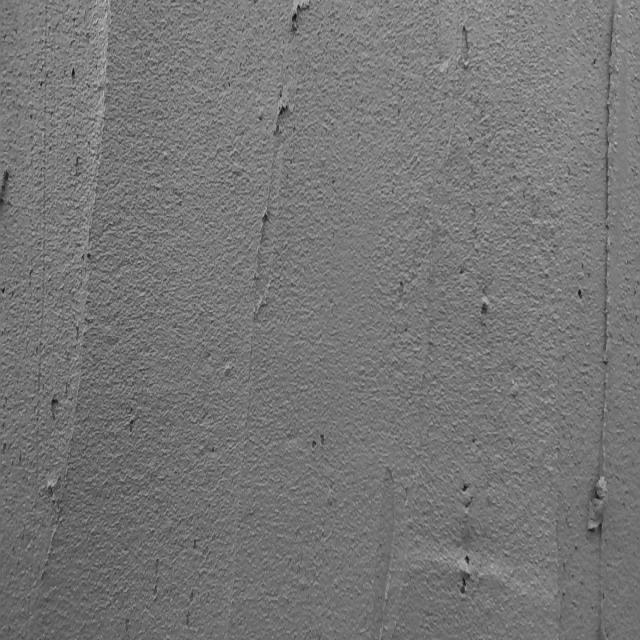trowels marks: (589, 0, 630, 572), (67, 2, 121, 405)
